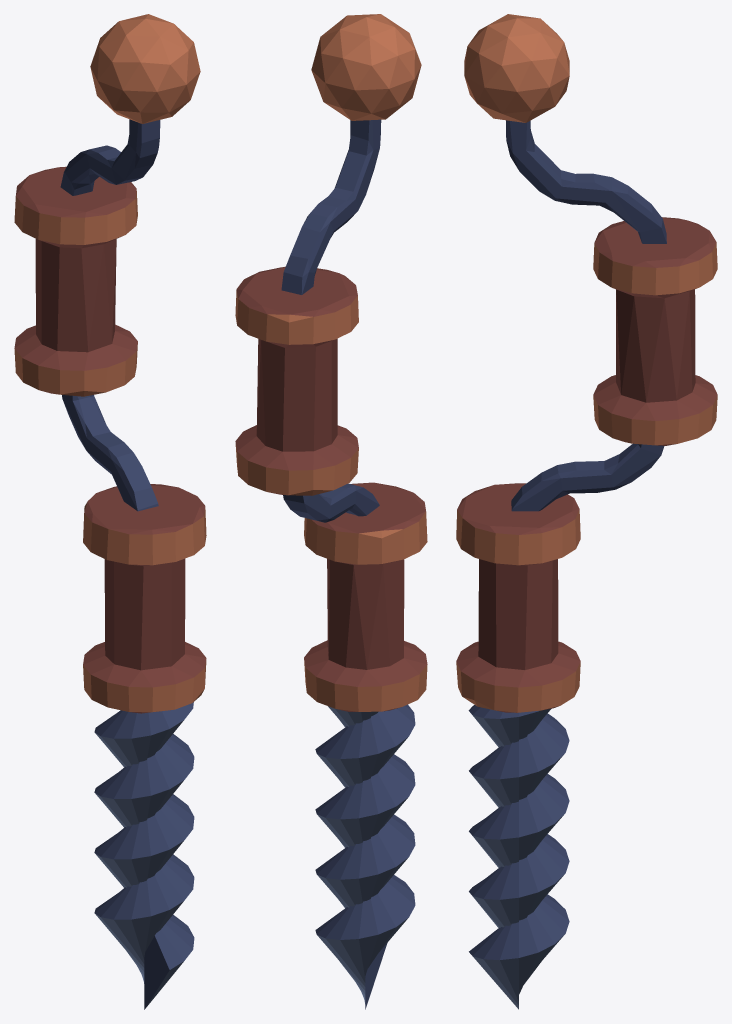
Rendered from Drill.fbx.
3 views of the same model, side by side, from view 1: azimuth 30°, elevation 25°; view 2: azimuth 150°, elevation 25°; view 3: azimuth 270°, elevation 25° (orthographic).
Visible parts, largest first — view 1: PoorMan Drill; view 2: PoorMan Drill; view 3: PoorMan Drill.
Part boxes in pixels (bbox=[...]): PoorMan Drill: bbox=[14, 14, 206, 1009]; PoorMan Drill: bbox=[235, 14, 427, 1009]; PoorMan Drill: bbox=[456, 14, 717, 1009].
Size of the model in its own units: 11.97 by 105 by 25.13.
